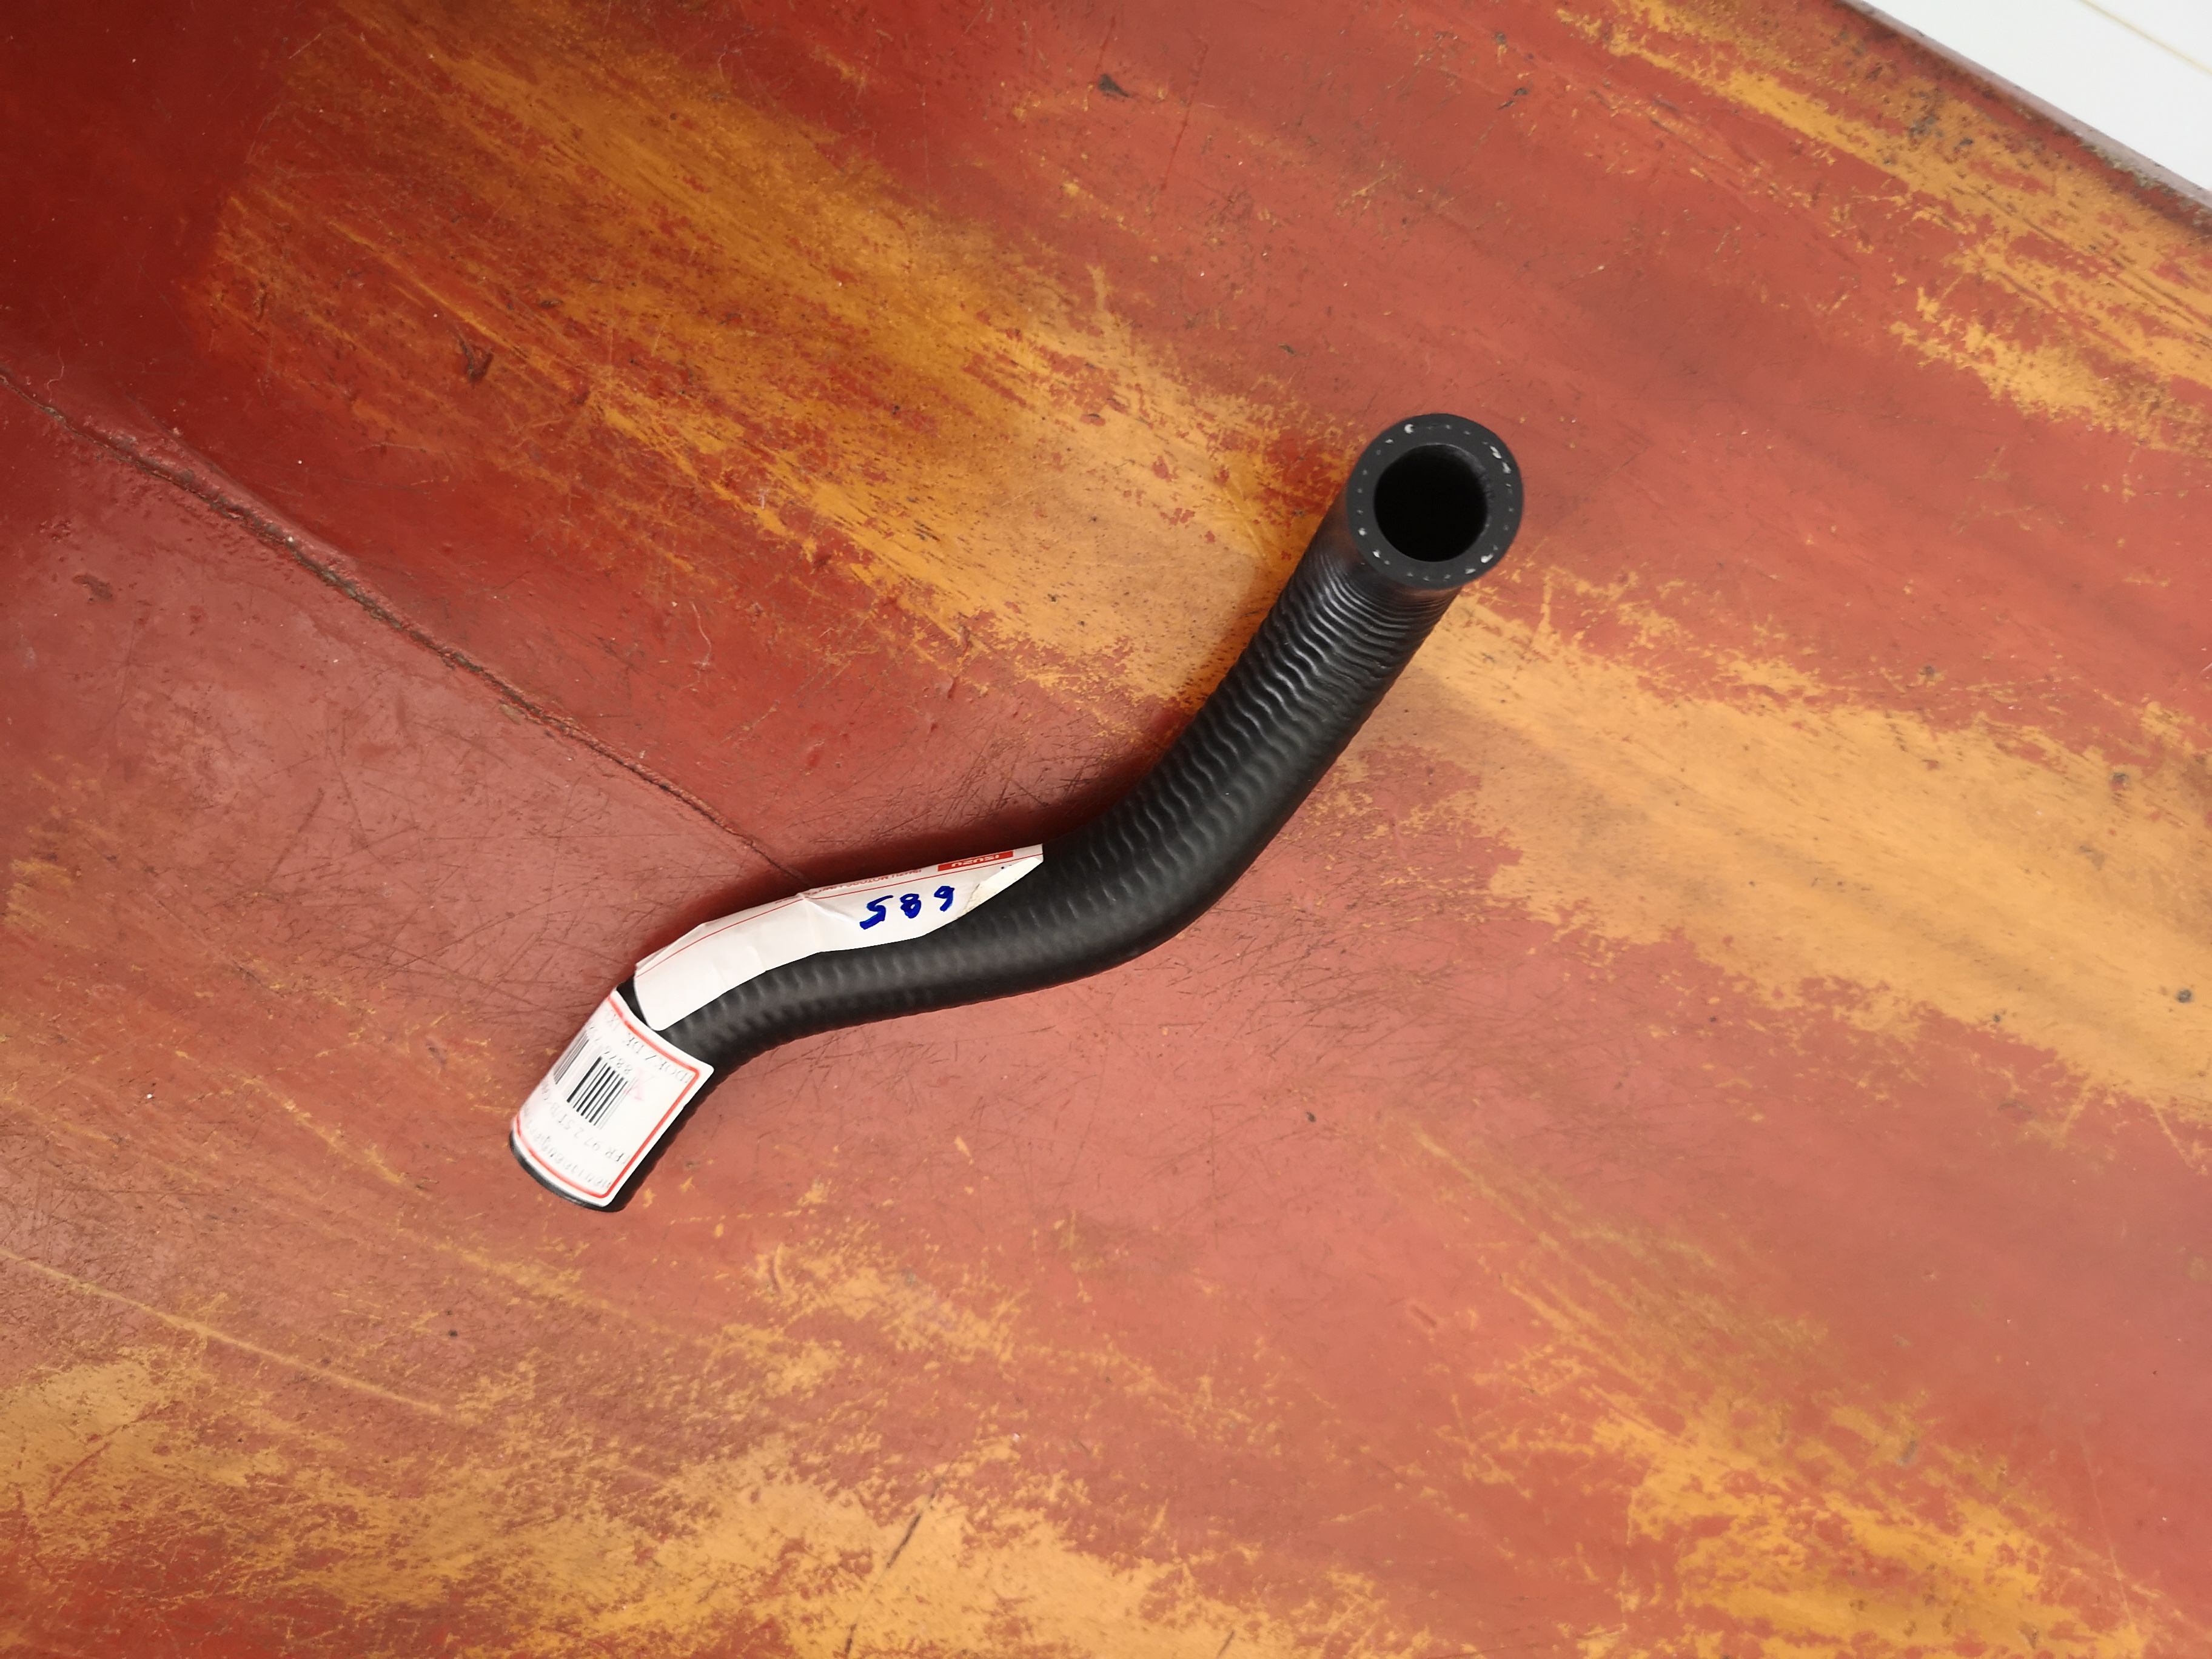ท่อยางน้ำมันเลี้ยงเทอร์โบ: (495, 406, 1557, 1469)
